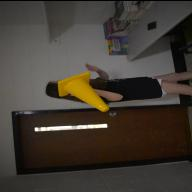cone: (57, 70, 110, 112)
